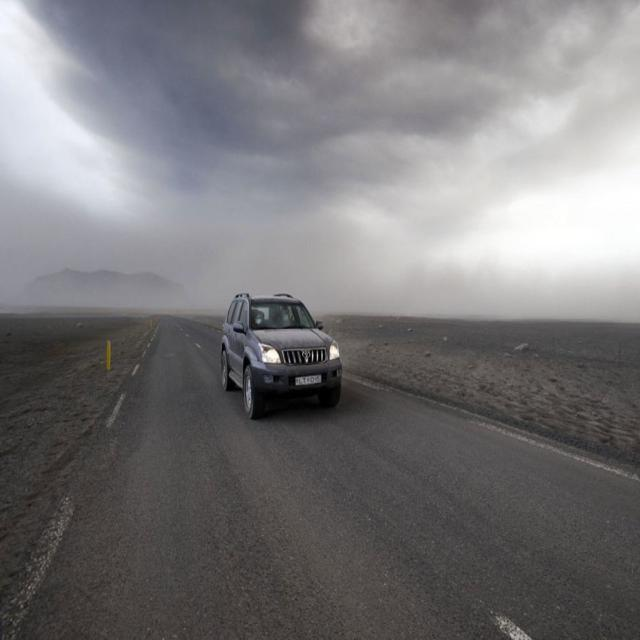car: (214, 291, 342, 417)
